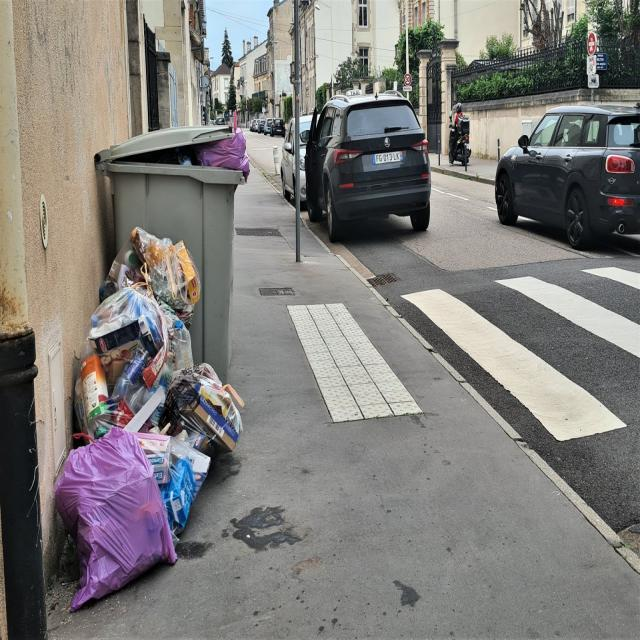garbage: (12, 163, 242, 606)
